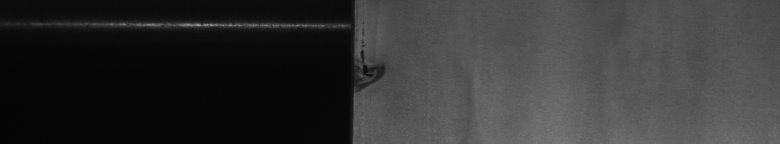hb: (364, 52, 392, 96)
